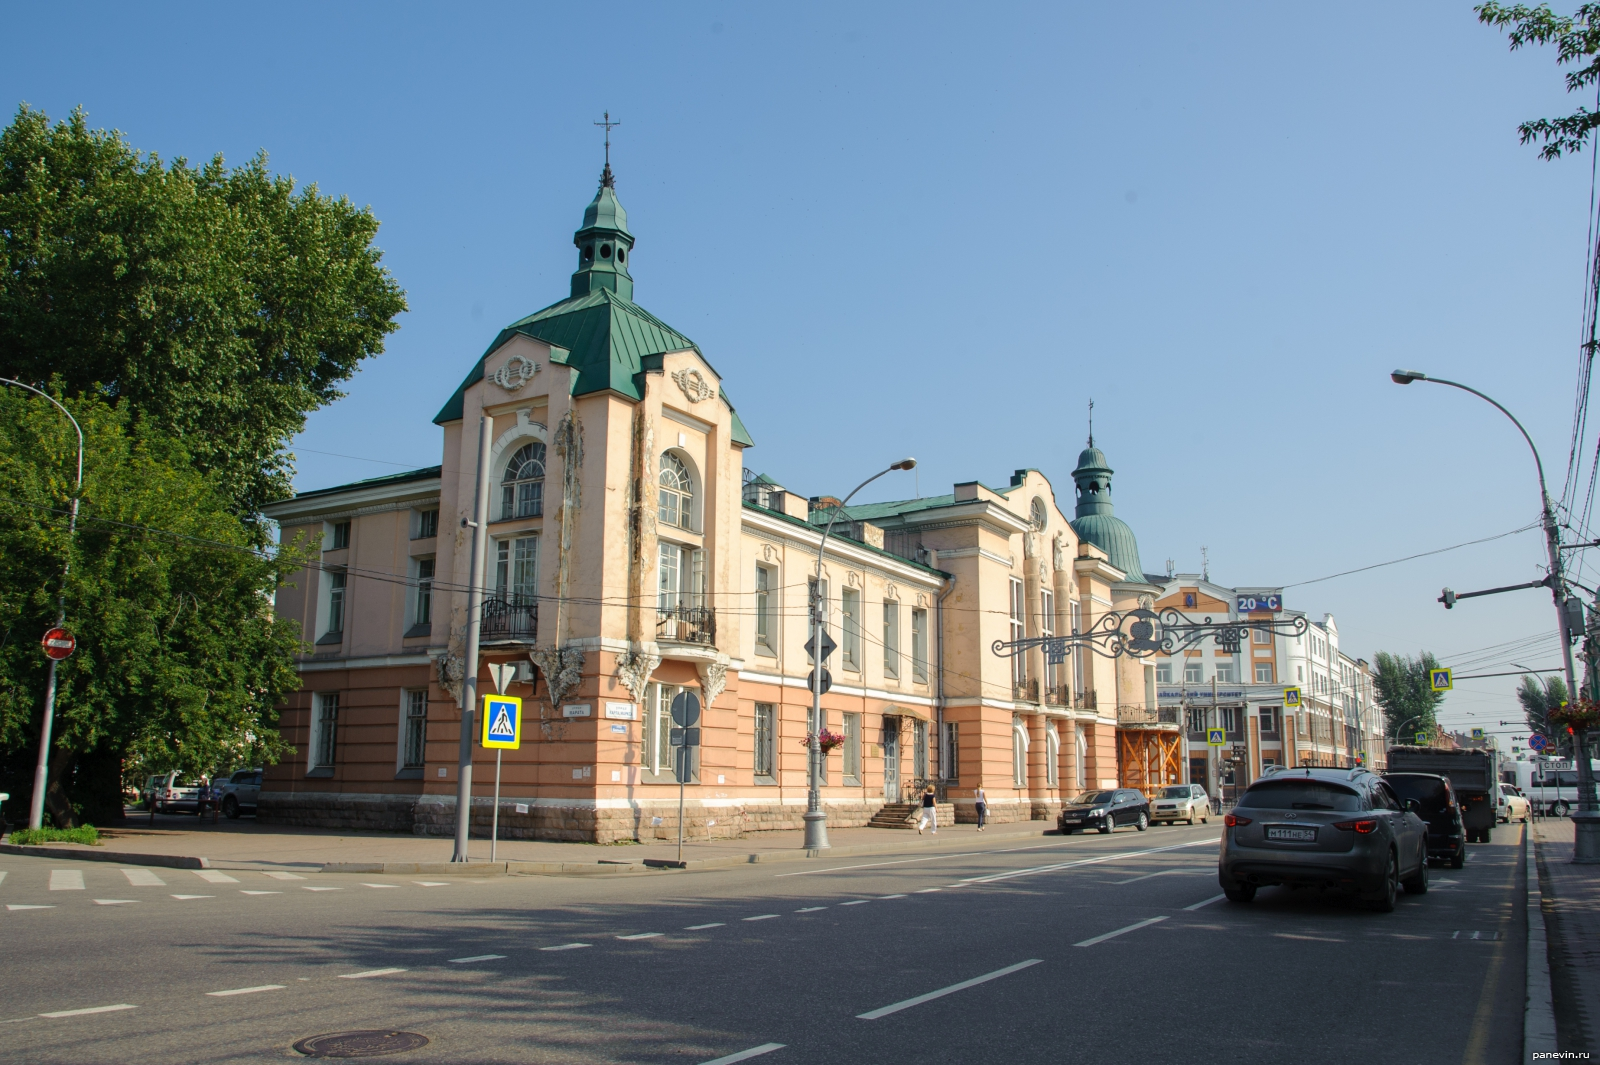sign: (479, 689, 525, 752), (38, 623, 78, 664), (1426, 664, 1455, 693), (1281, 686, 1304, 708), (1527, 732, 1549, 754), (1205, 726, 1227, 746), (1470, 725, 1486, 741), (1413, 731, 1428, 746), (1545, 742, 1557, 754), (1511, 743, 1522, 755)
